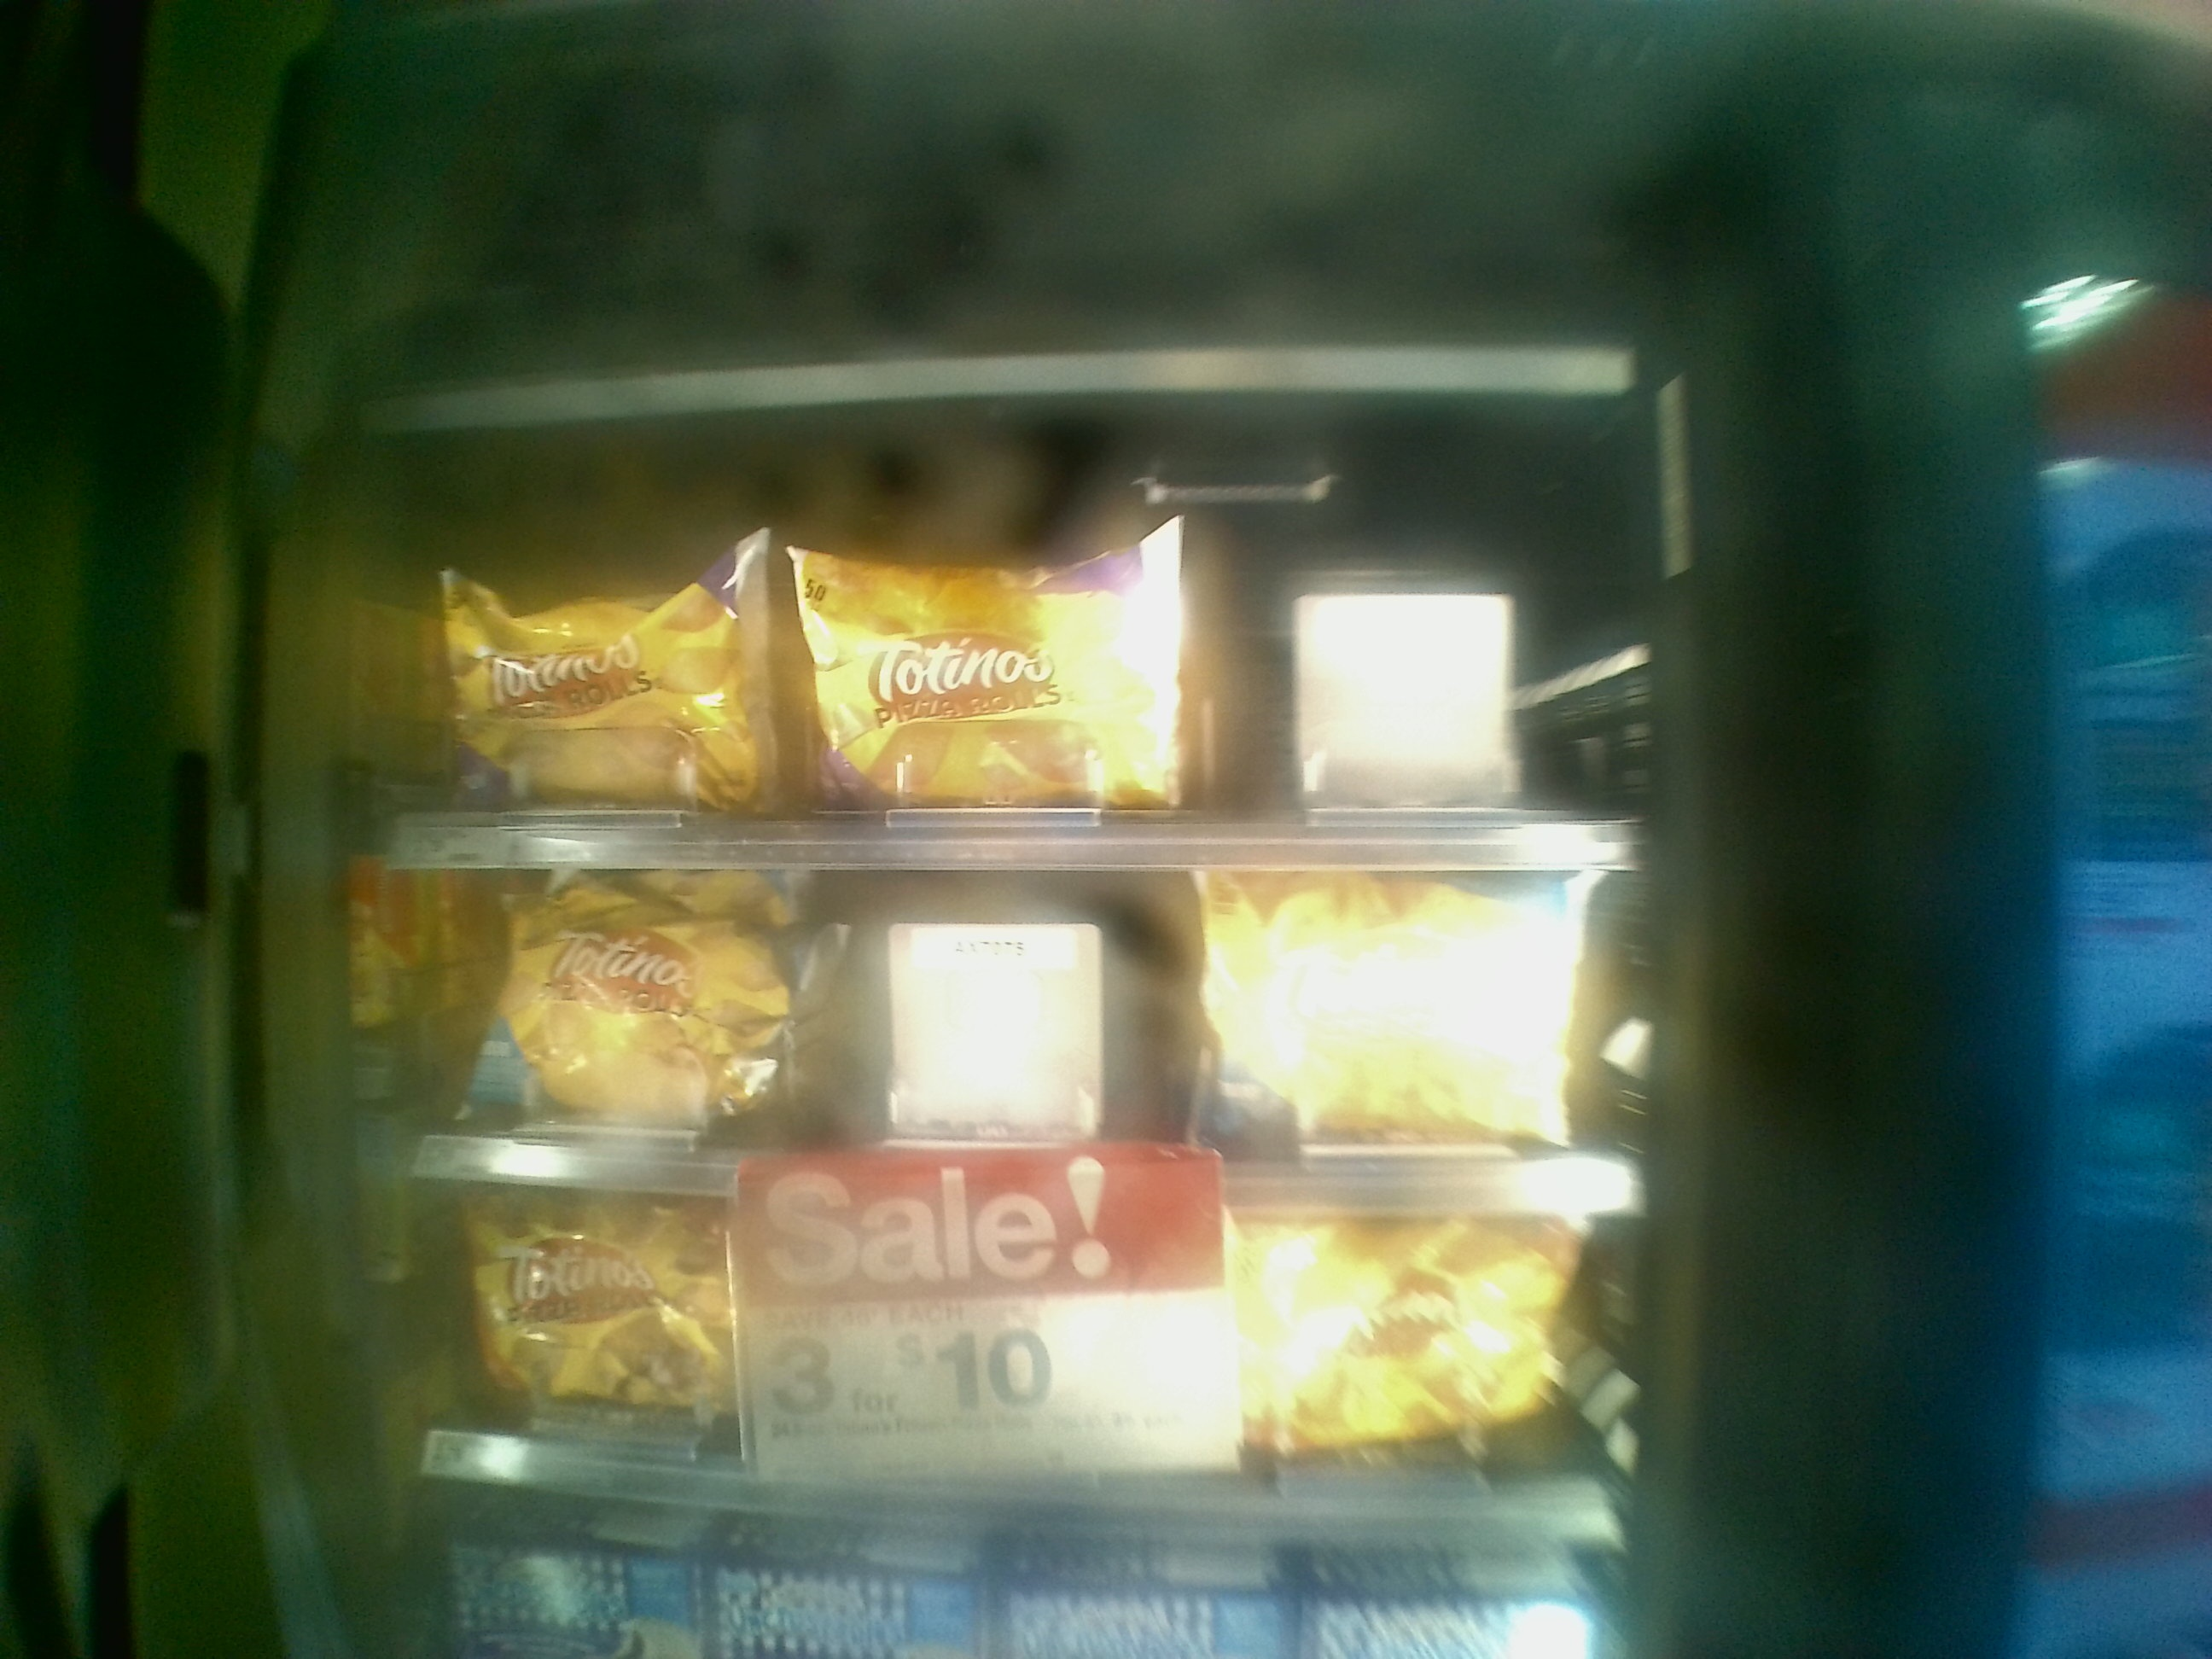shelf: (327, 429, 1672, 870), (334, 864, 1651, 1220), (347, 1213, 1649, 1556)
